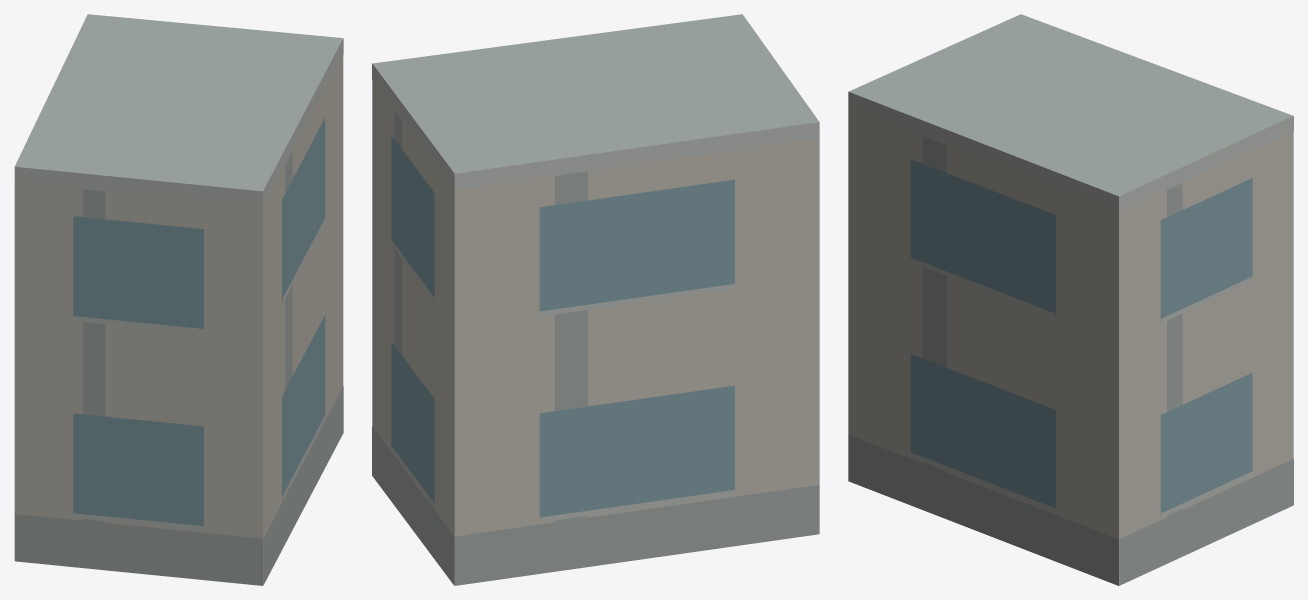
Rendered from survey-upis-32979184.glb.
The picture shows the model from 3 angles, left to right: view 1: azimuth 30°, elevation 25°; view 2: azimuth 150°, elevation 25°; view 3: azimuth 270°, elevation 25°; orthographic projection. The views are drawn at different scales.
Parts seen in each view (by area): view 1: survey-upis-32979184.tmp; view 2: survey-upis-32979184.tmp; view 3: survey-upis-32979184.tmp.
Boxes of the visible parts, x1,y1,x2,y2 form: survey-upis-32979184.tmp: [14, 14, 343, 585]; survey-upis-32979184.tmp: [372, 14, 819, 585]; survey-upis-32979184.tmp: [848, 14, 1293, 585].
Size of the model in its own units: 6.13 by 6.1 by 6.33.
